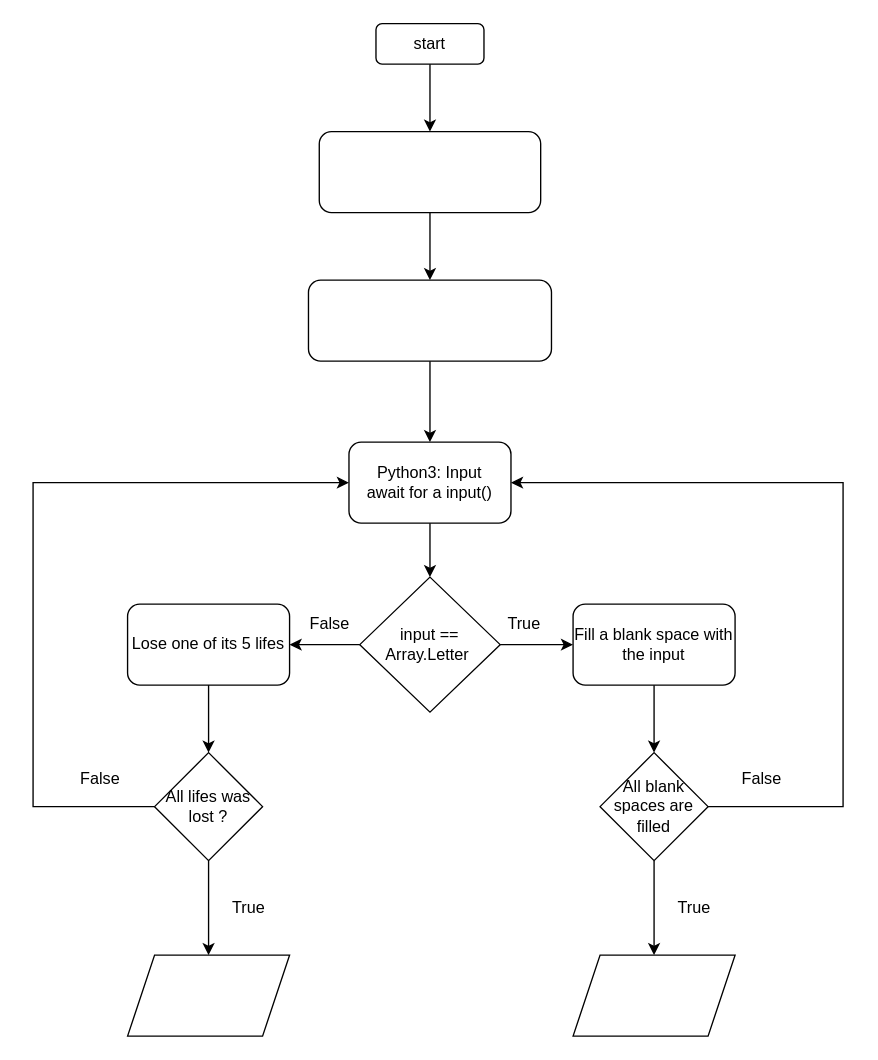
Some shapes in this 878 by 1060 pixel diagram are drawn without their labels. The shapes that lost their labels are listed below. From the top down, each one's box as (x1, y1, x2, y2) in pixels, then its label:
(318, 130, 541, 213): Python3: Generate a random word
(307, 279, 551, 361): Python3: Generate as blank spaces than letters in the word
(126, 954, 290, 1036): GAME OVER
(572, 954, 735, 1036): YOU WON!
